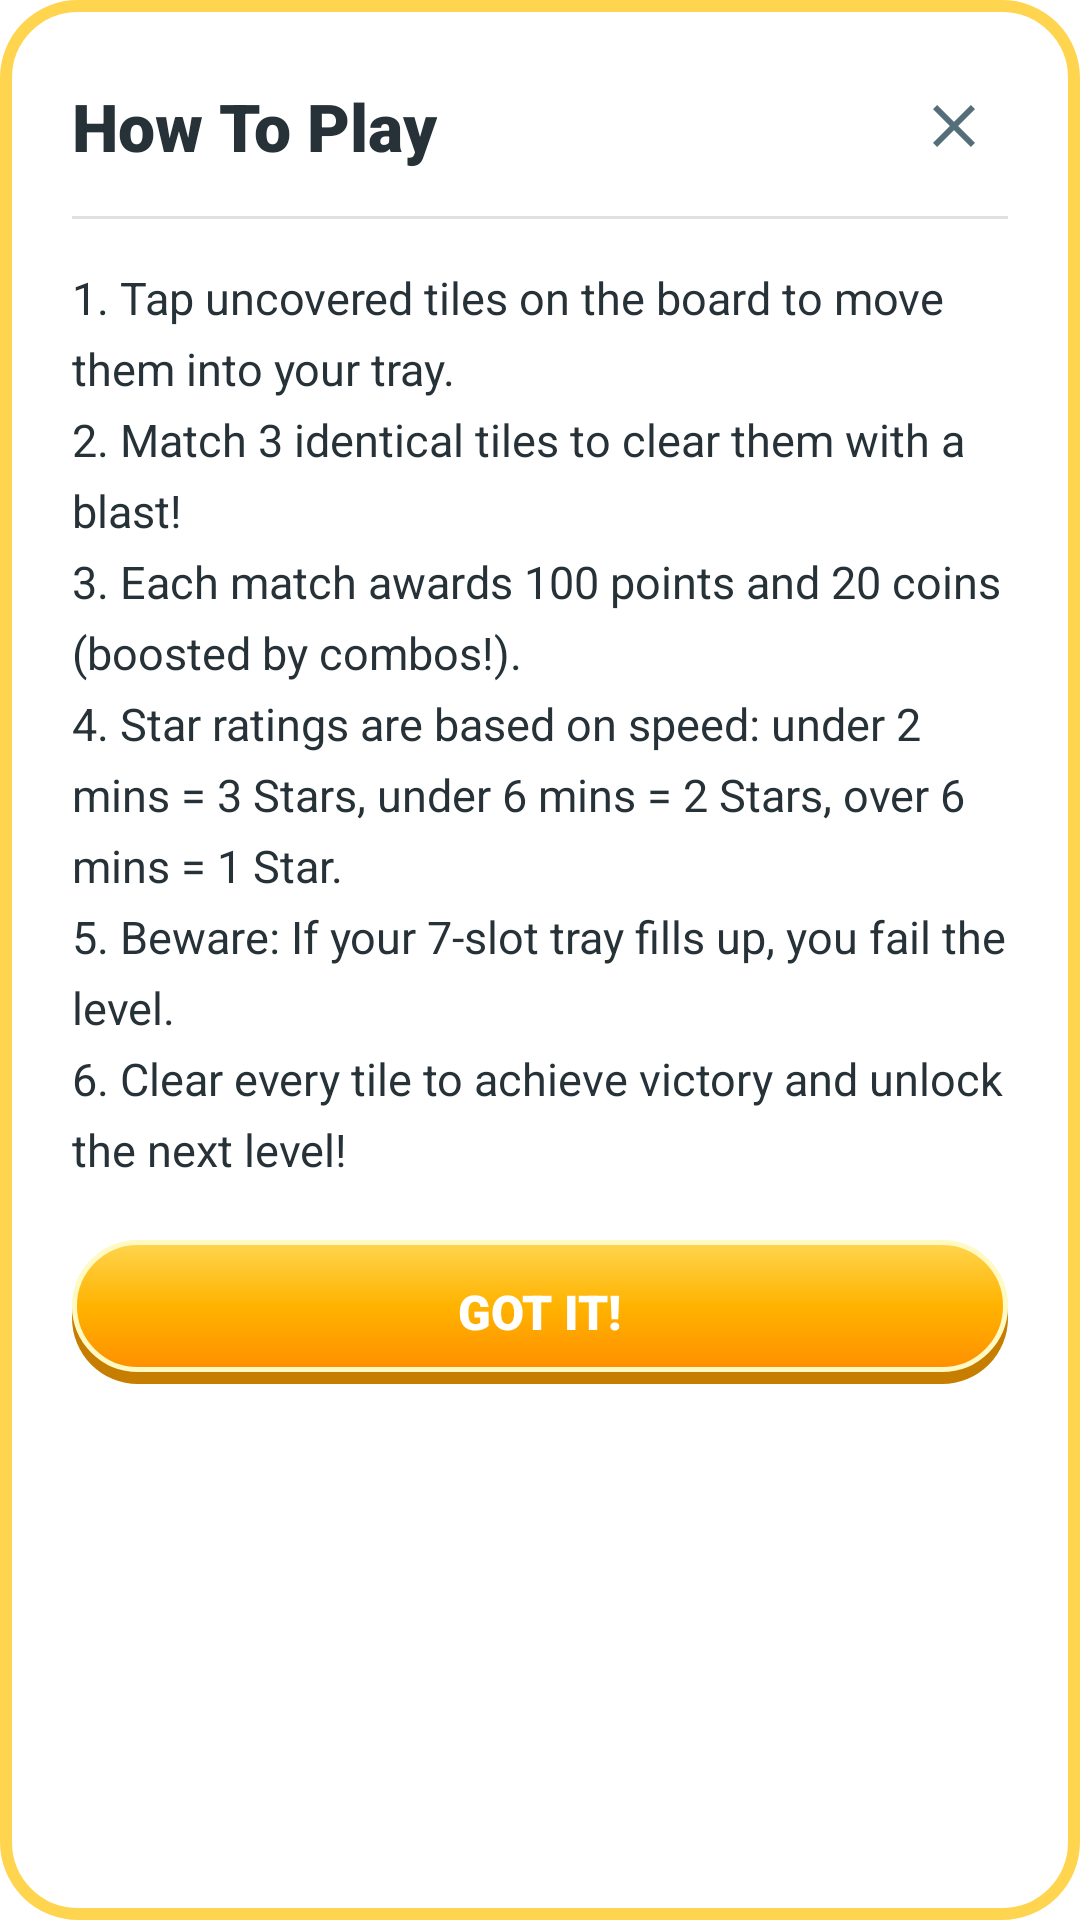

Screen size 1080*1920. Icon name, then its center in pixels as (x,y):
close: (954,126)
